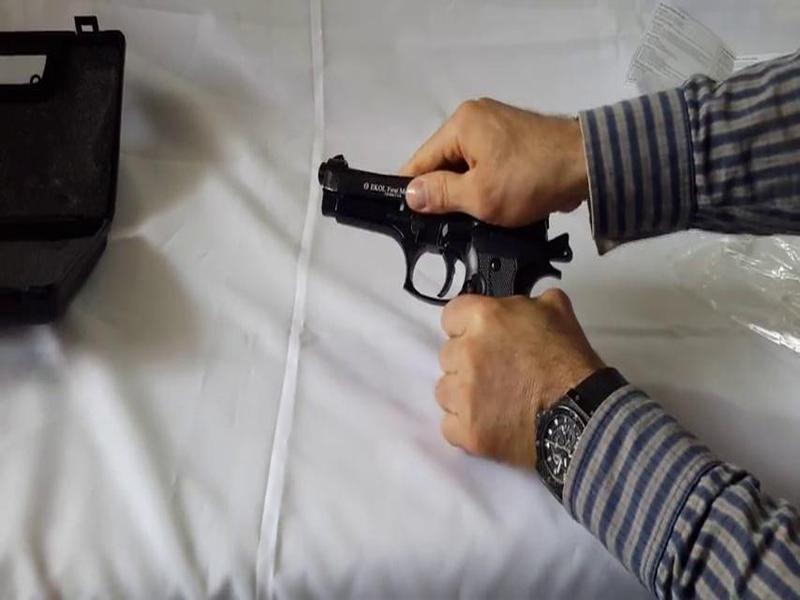Pistola: (307, 148, 580, 354)
